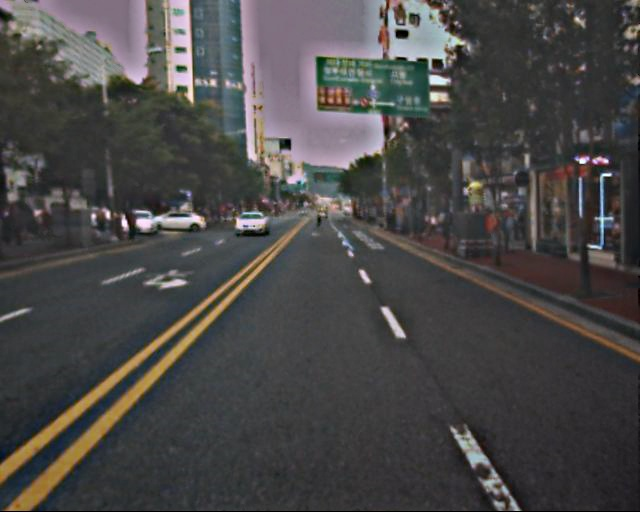person: (498, 211, 516, 256)
